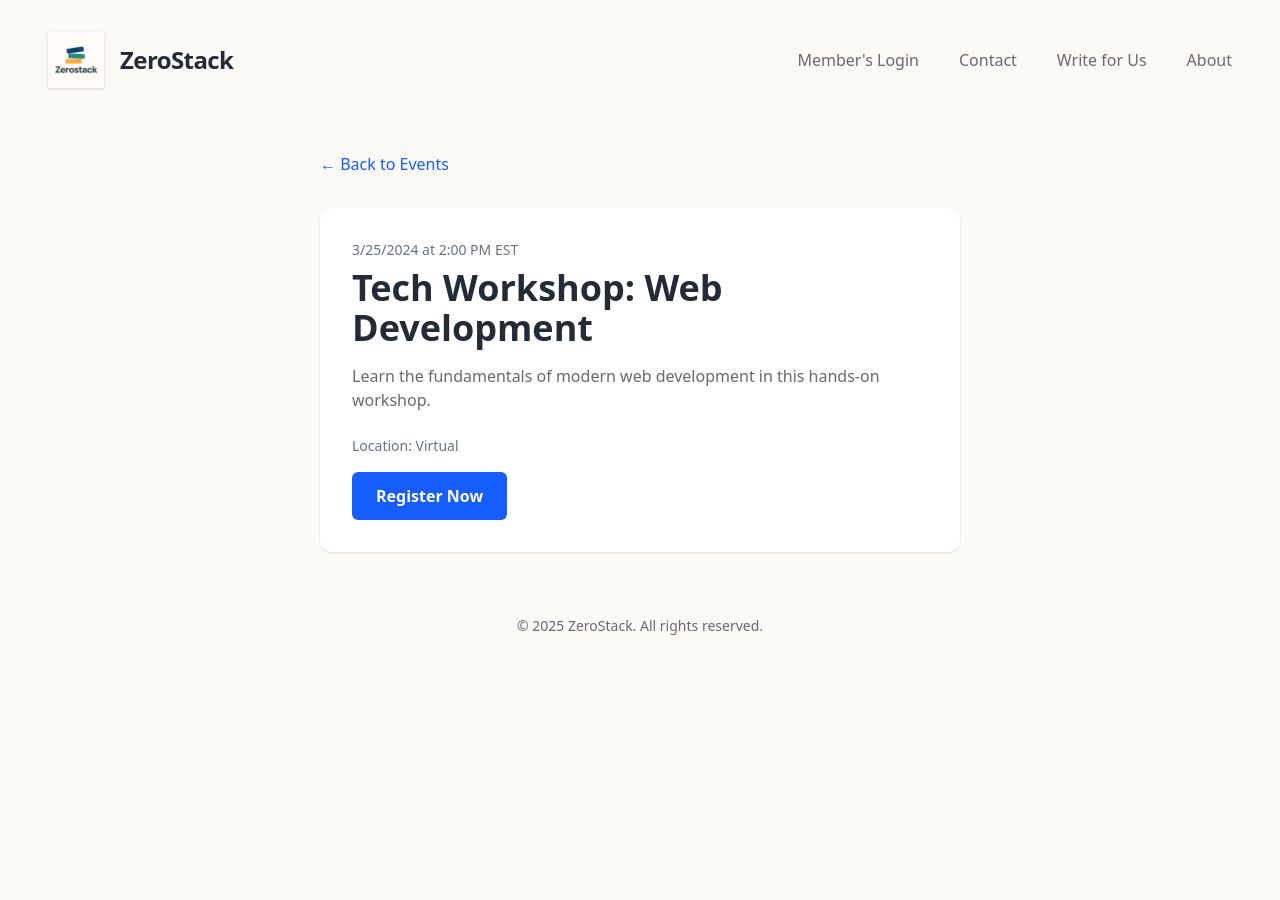
Test: EventDetail Page › opens registration modal when Register Now is clicked
Click the button "Register Now" at (430, 496), box [352,472,507,520]
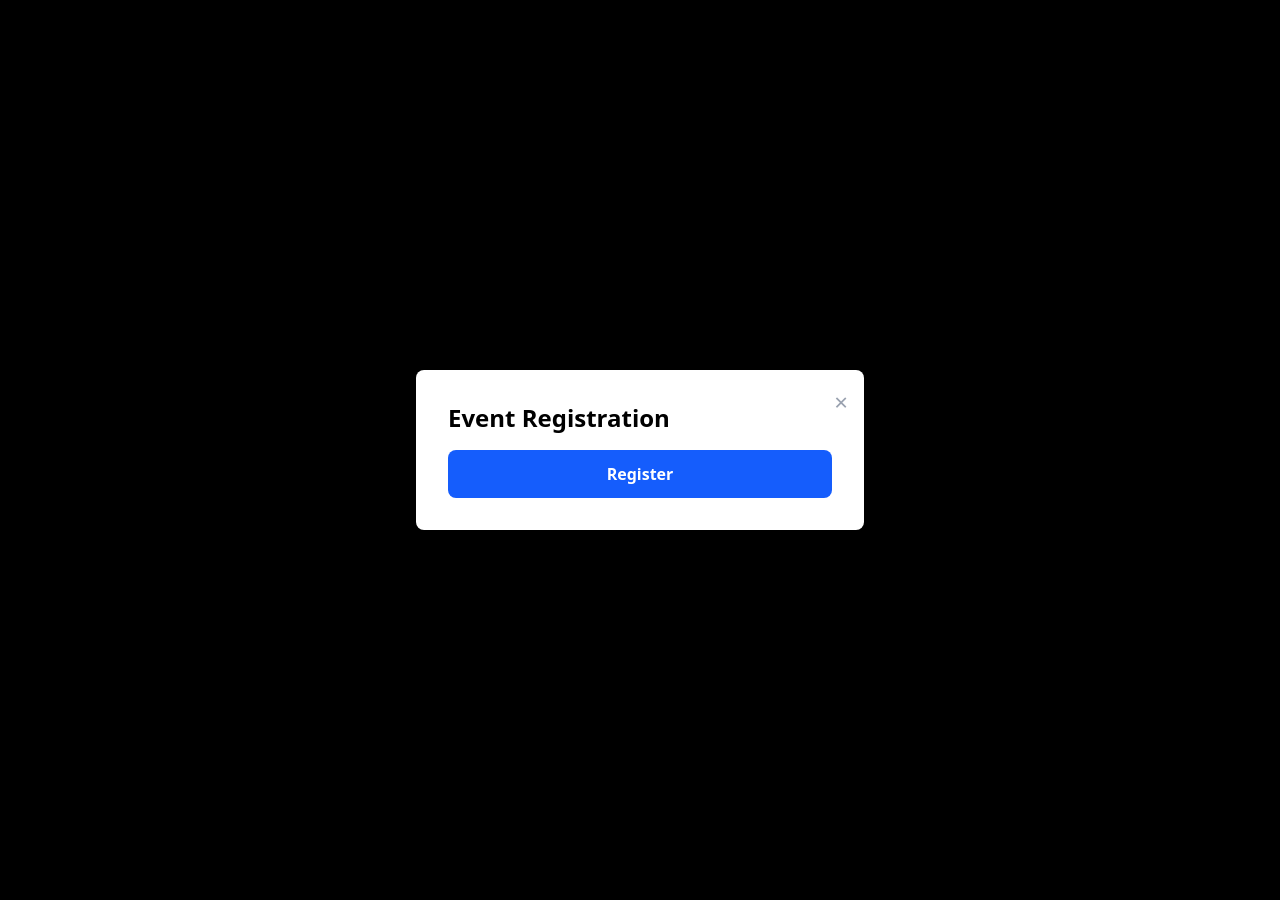
Result: the heading "Event Registration" is shown at [448,401,670,434]
